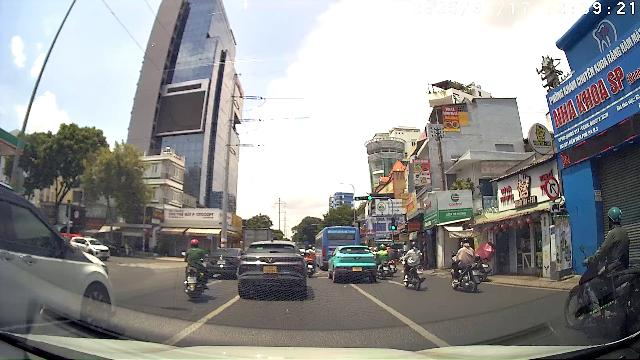123b-cam-re-phai: (544, 176, 560, 200)
